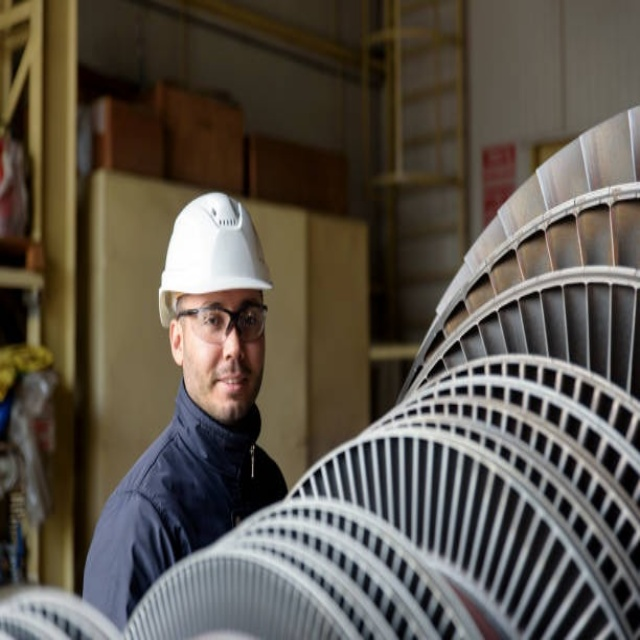Gafas: (175, 301, 269, 343)
Sin_mascara: (204, 362, 252, 400)
